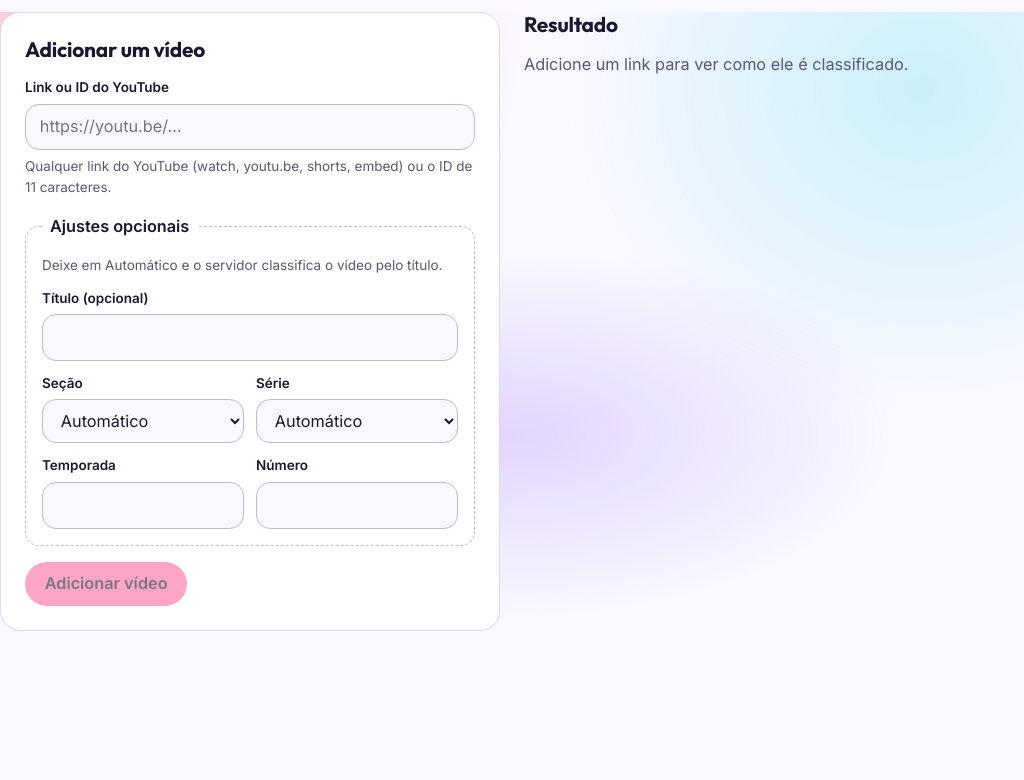
adding a video that is in the trash (409) › pt-BR: 'Na lixeira — restaure-o', without the server's English text
In the field labelled "Link ou ID do YouTube": (250, 127) [25,104,475,150], type "B9498740005"
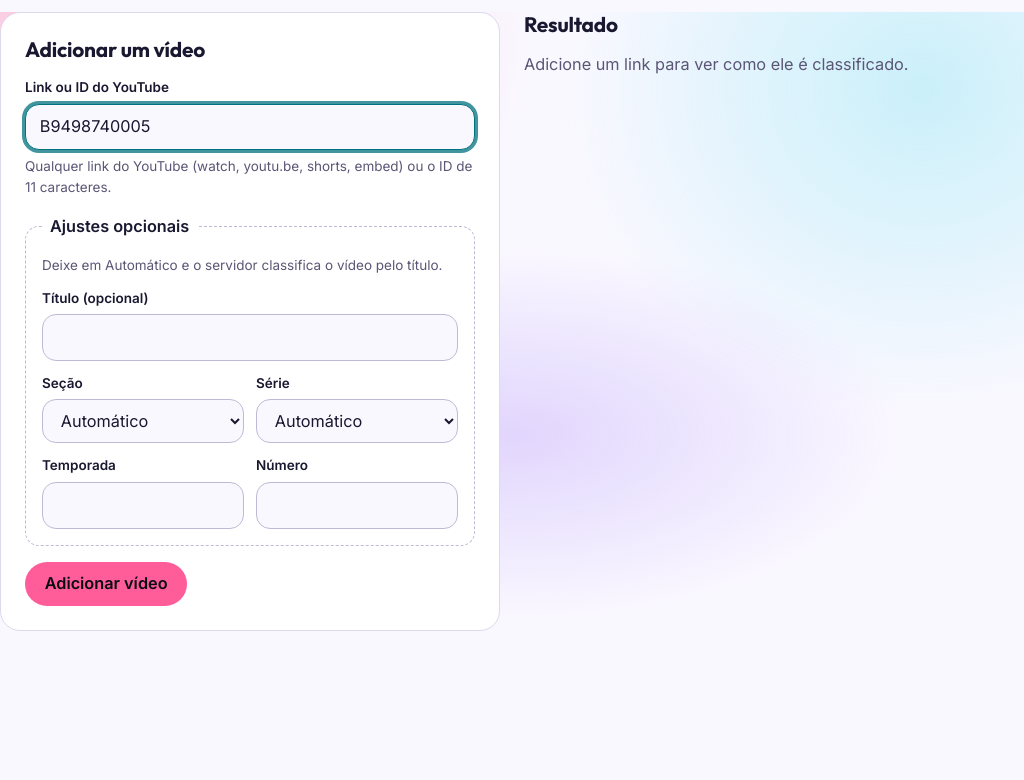
Click the button "Adicionar vídeo": (106, 584) [25,562,187,606]
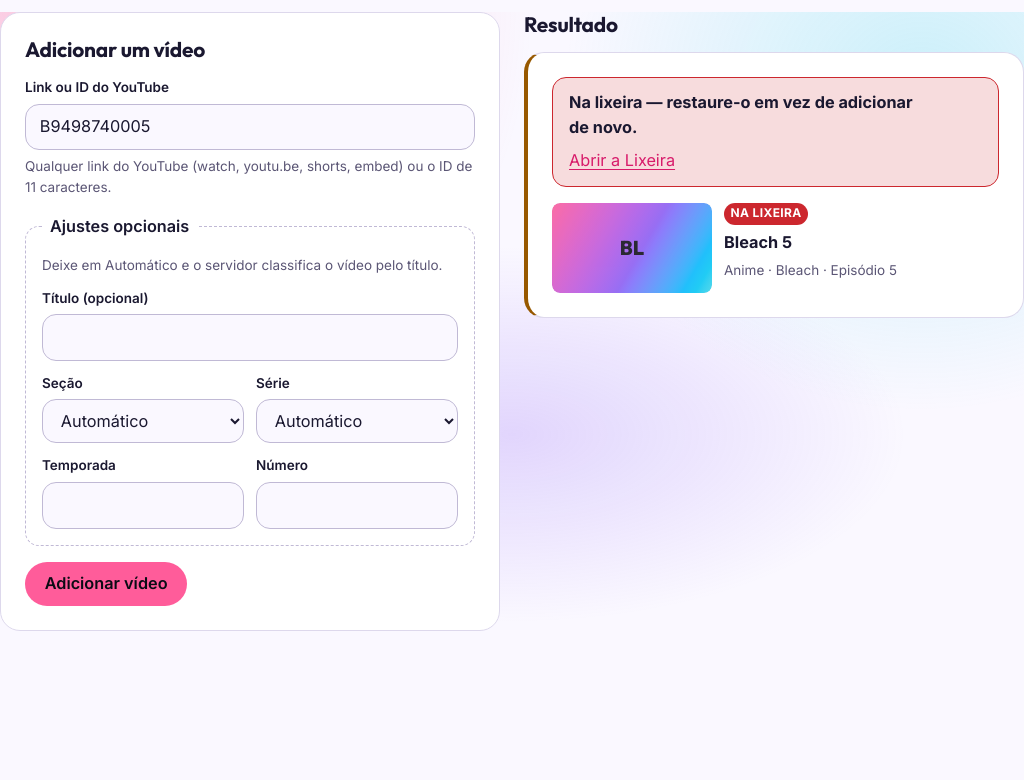
Check: the message does not show "restore it instead", box [552,77,999,187]
Check: the message shows "Na lixeira — restaure-o em vez de adicionar de novo.", box [569,92,913,137]
